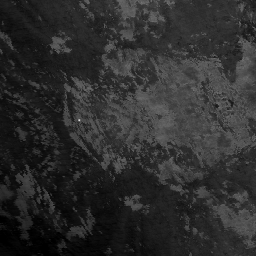Target: (76, 117, 81, 122)
